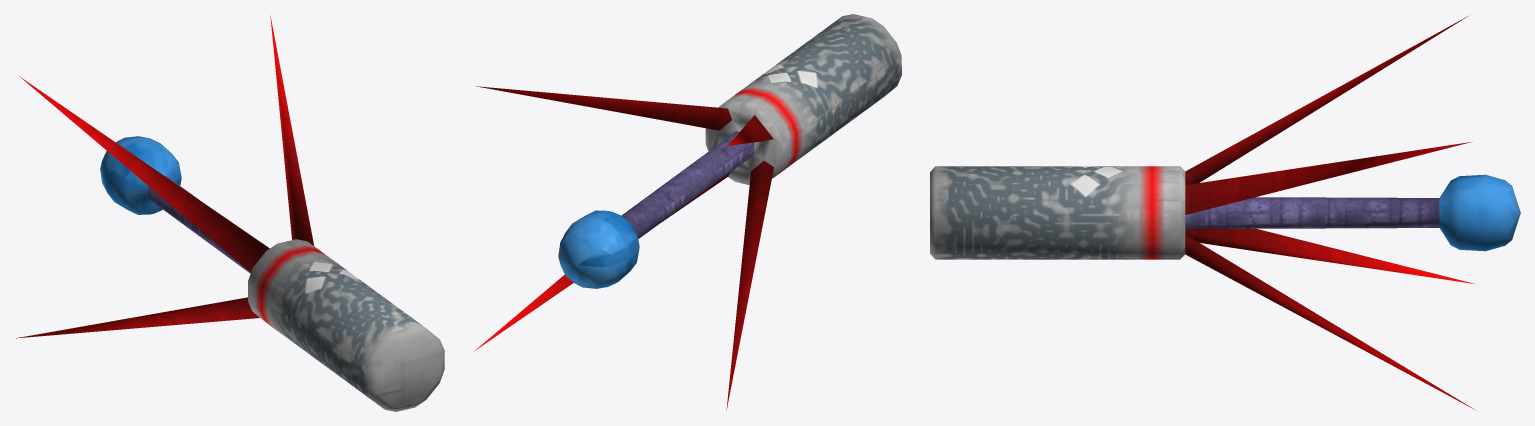
File: w_emp.obj
The picture shows the model from 3 angles, left to right: view 1: azimuth 30°, elevation 25°; view 2: azimuth 150°, elevation 25°; view 3: azimuth 270°, elevation 25°; orthographic projection. The views are drawn at different scales.
Parts seen in each view (by area): view 1: w_emp; view 2: w_emp; view 3: w_emp.
Boxes of the visible parts, x1,y1,x2,y2 form: w_emp: (16,15,444,411); w_emp: (475,14,901,409); w_emp: (930,16,1520,410).
Size of the model in its own units: 2.32 by 2.32 by 4.56.
Materials: 1 (1 with a texture image).
